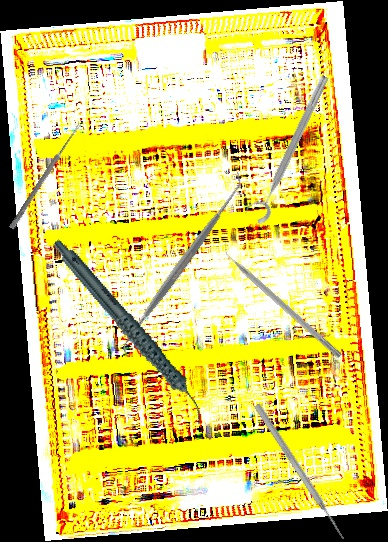Chopper: (215, 237, 349, 360)
Fixation Ring: (241, 69, 334, 227)
Handpiece: (52, 216, 208, 446)
Pusher: (252, 402, 348, 542)
Spatula Surgical: (110, 169, 255, 358)
Surgical Spoon: (8, 121, 83, 231)
